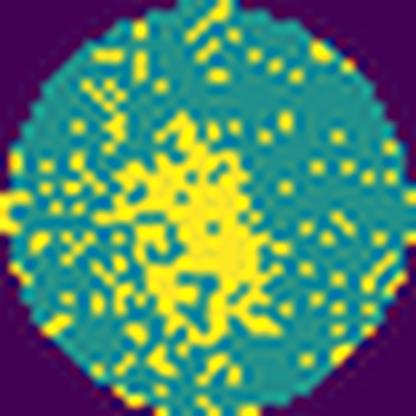Center: (92, 109, 284, 357)
